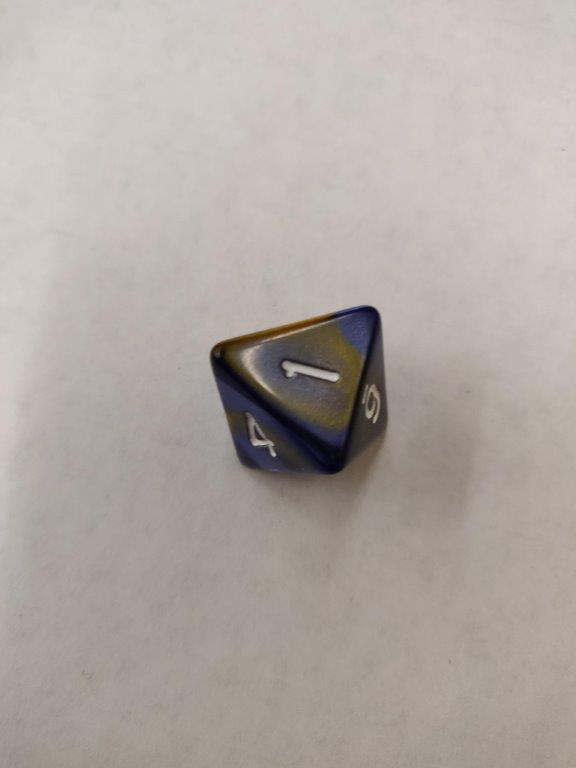d8-1: (209, 302, 392, 474)
